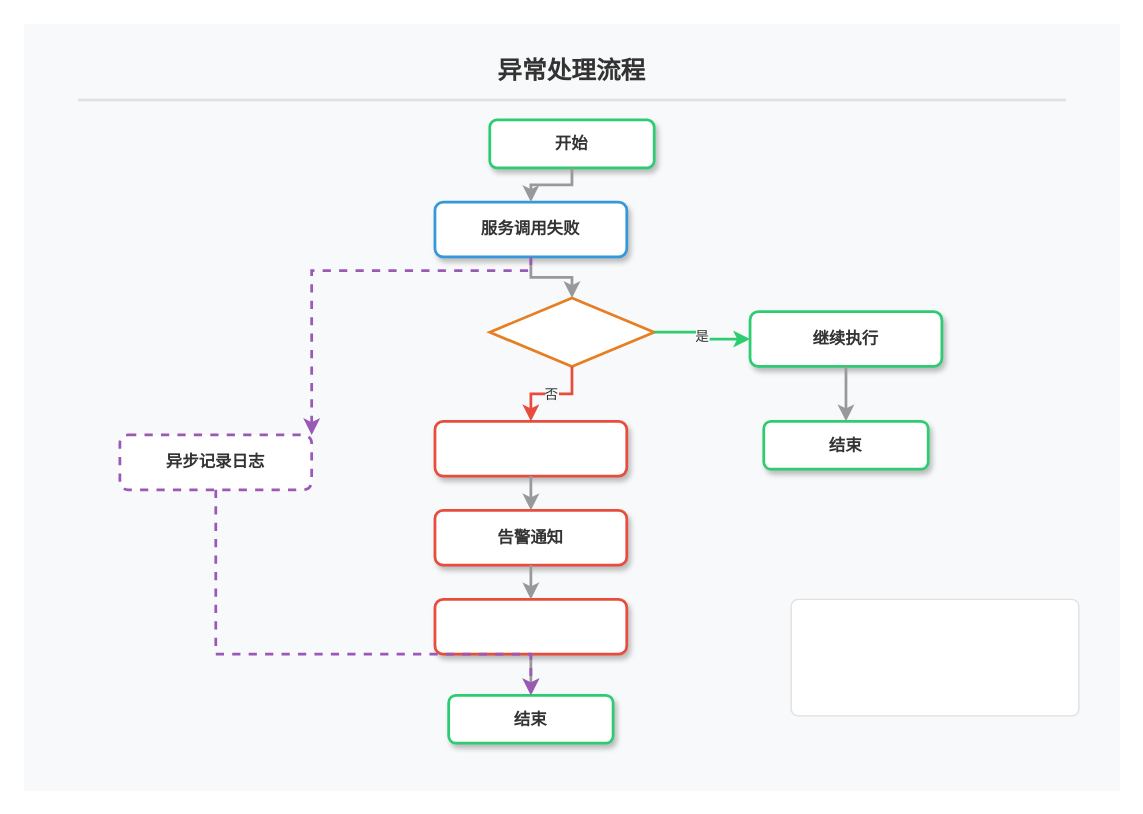
Image size: 1143x814. Some labels were removed from this diagram. The centre of each missing label's shape, as x and y in pixels:
人工介入: [531,628]
图例说明 ━━━━━━━━━━━━ ■ 主流程(蓝色) ■ 成功(绿色) ■ 异常/失败(红色) ■ 判断(橙色) ┈┈ 异步(紫色虚线): [934,657]
服务降级: [531,450]
重试成功?: [571,331]
